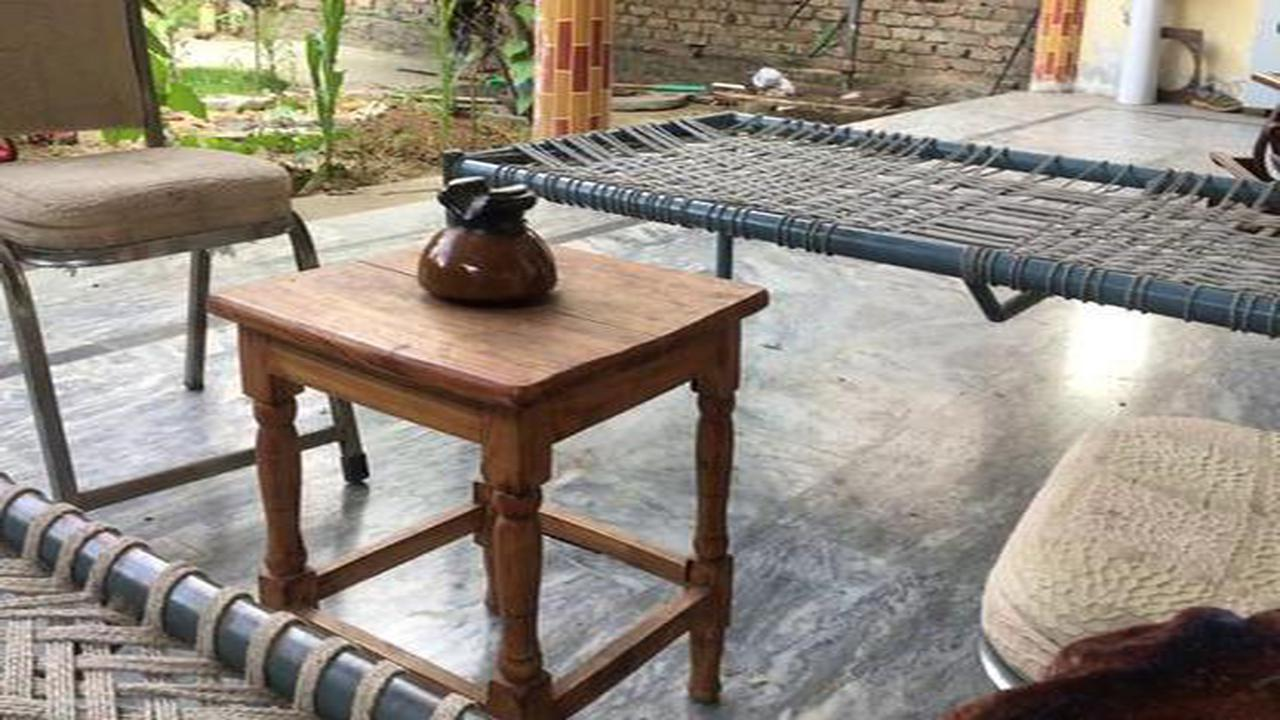insulator_pin: (397, 161, 585, 319)
